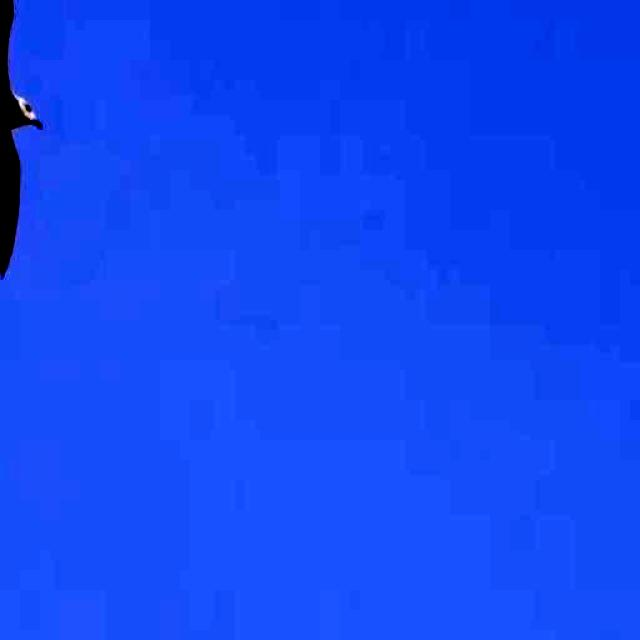airplane: (0, 0, 49, 288)
